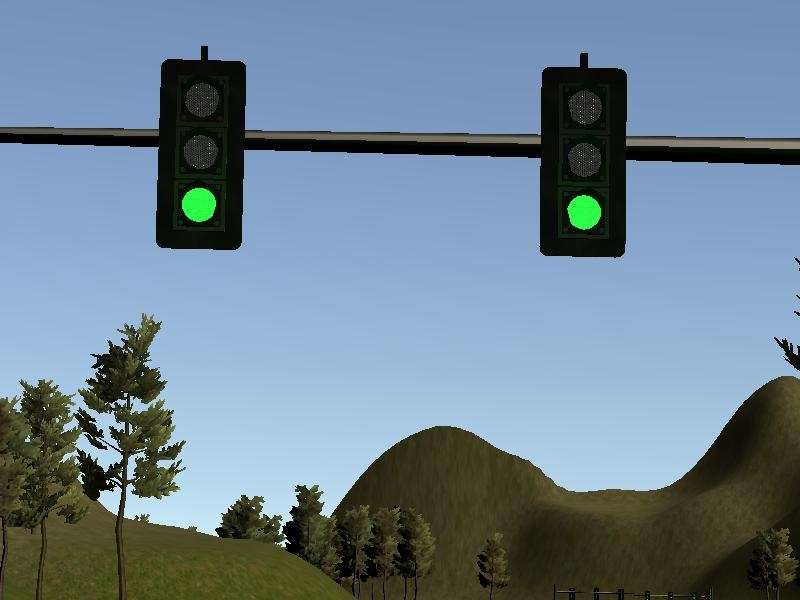GREEN: (153, 59, 249, 251), (537, 67, 628, 259)
